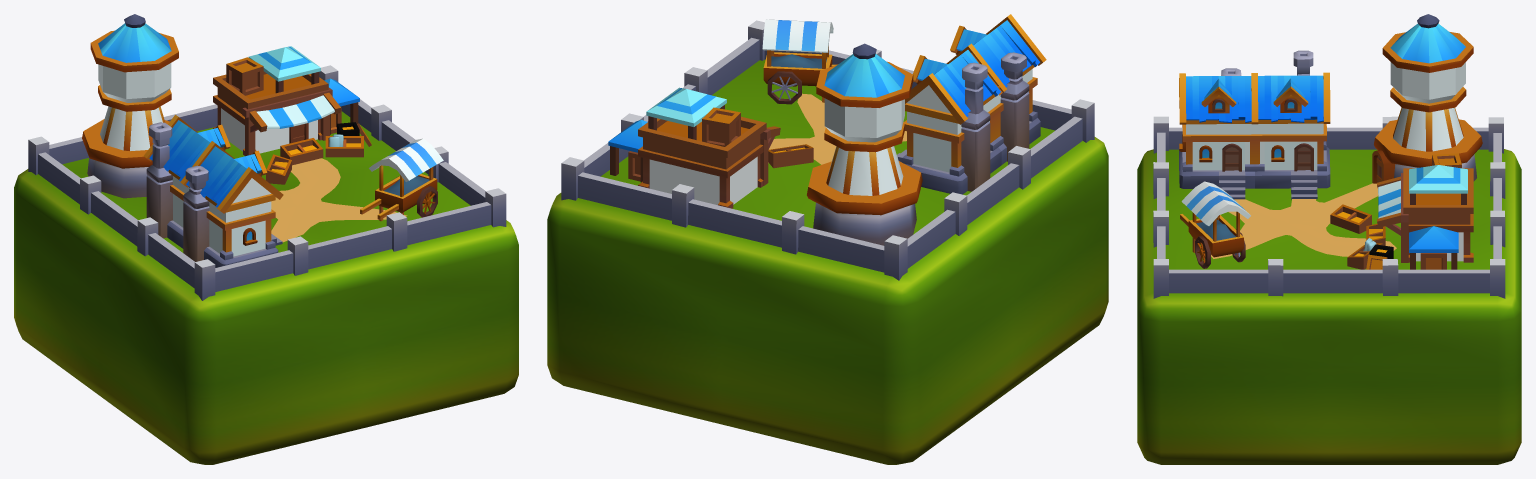
Rendered from block_meta_base_lvl_2 (3).fbx.
3 renders of one model, left to right at view 1: azimuth 30°, elevation 25°; view 2: azimuth 150°, elevation 25°; view 3: azimuth 270°, elevation 25°, orthographic. The views are drawn at different scales.
Visible parts, largest first — view 1: block_village_2; view 2: block_village_2; view 3: block_village_2.
Boxes of the visible parts, x1,y1,x2,y2 form: block_village_2: (14,14,518,464); block_village_2: (547,14,1108,464); block_village_2: (1137,14,1521,464).
Bounding box in the file's own units: 400 × 389 × 400.
